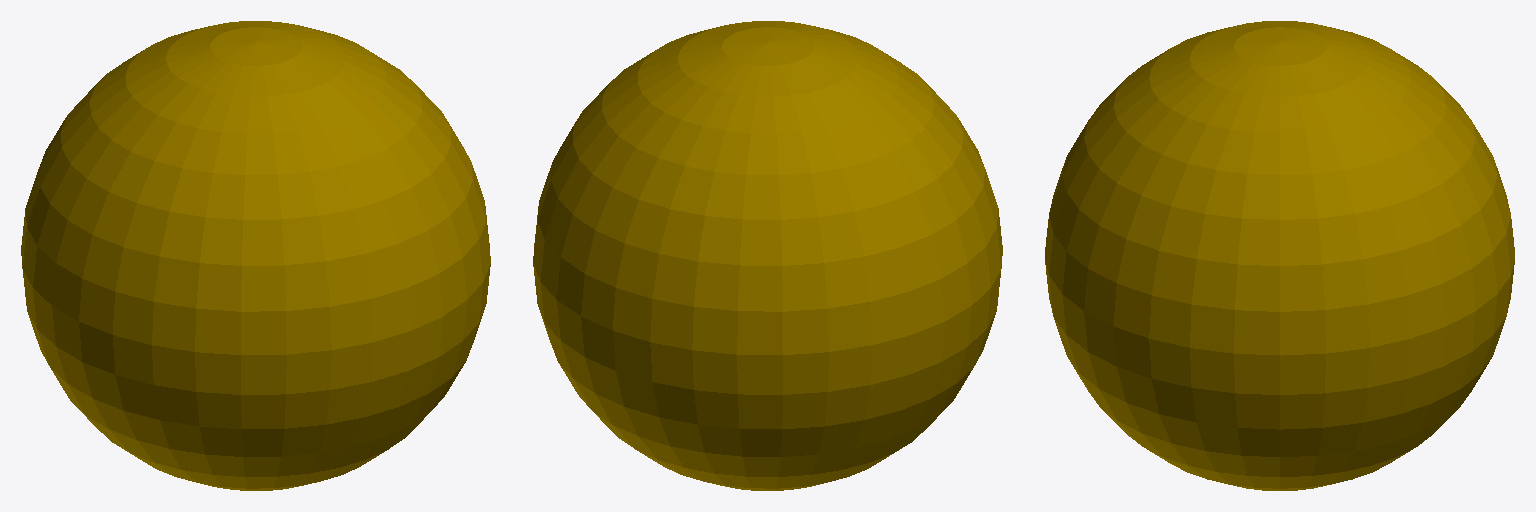
Rendered from bally.obj.
3 views of the same model, side by side, from view 1: azimuth 30°, elevation 25°; view 2: azimuth 150°, elevation 25°; view 3: azimuth 270°, elevation 25° (orthographic).
Visible parts, largest first — view 1: Sphere; view 2: Sphere; view 3: Sphere.
Part boxes in pixels (left/top/right/bottom): Sphere: left=21, top=21, right=490, bottom=490; Sphere: left=533, top=21, right=1002, bottom=490; Sphere: left=1045, top=21, right=1514, bottom=490.
Bounding box in the file's own units: 1 × 1 × 1.